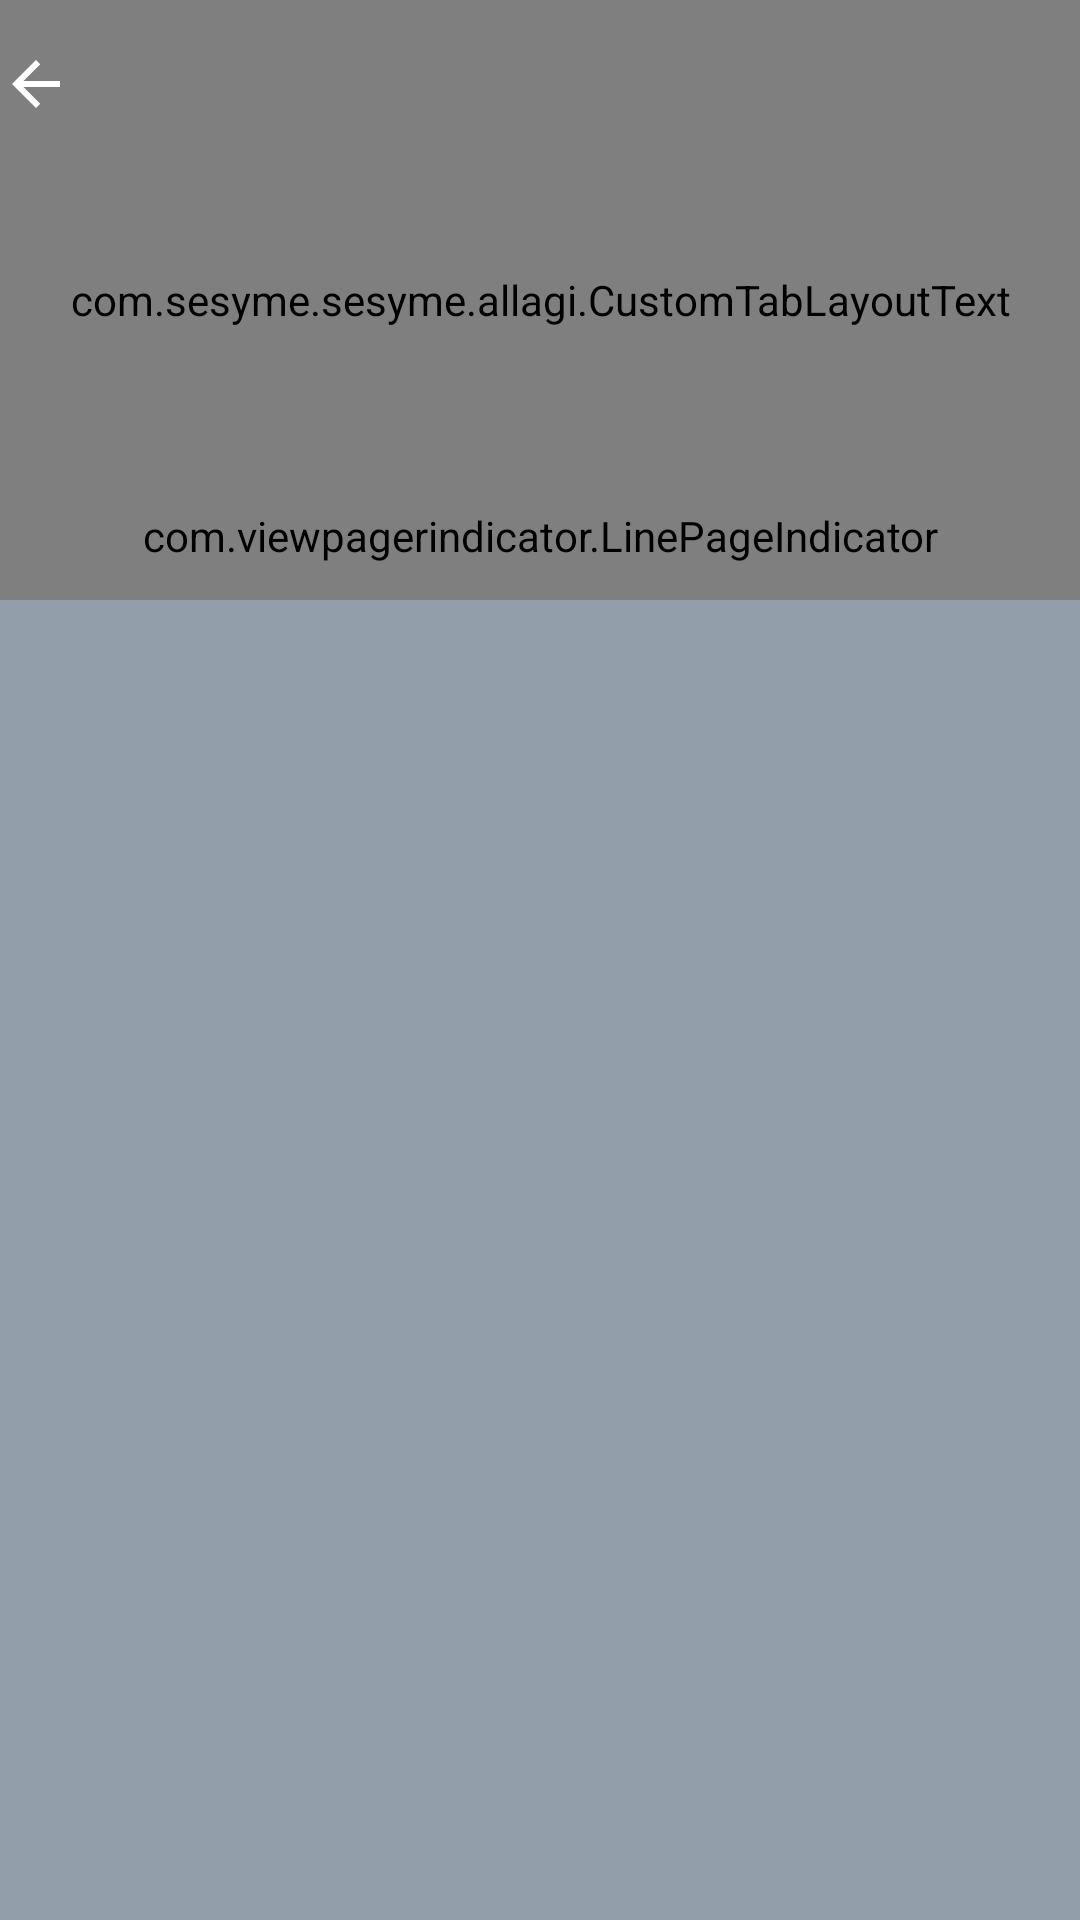

Named icons in this screenshot (1080*1920) and their bounding boxes, bbox=[x1, y1, x2, y2]:
Back: bbox=[12, 60, 60, 108]
